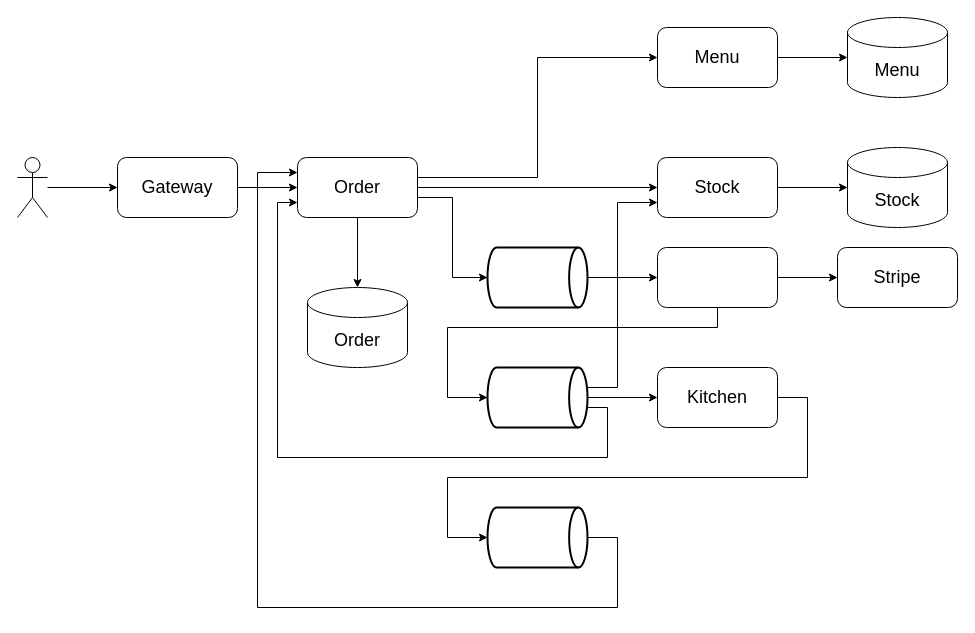
Image size: 975x633. Some labels were removed from this diagram. Each missing label, with the box of its shape:
Order Created: (486, 246, 588, 308)
Order Paid: (486, 366, 588, 428)
Order Updated: (486, 506, 588, 568)
Payment: (656, 246, 778, 308)
User: (16, 156, 48, 218)
